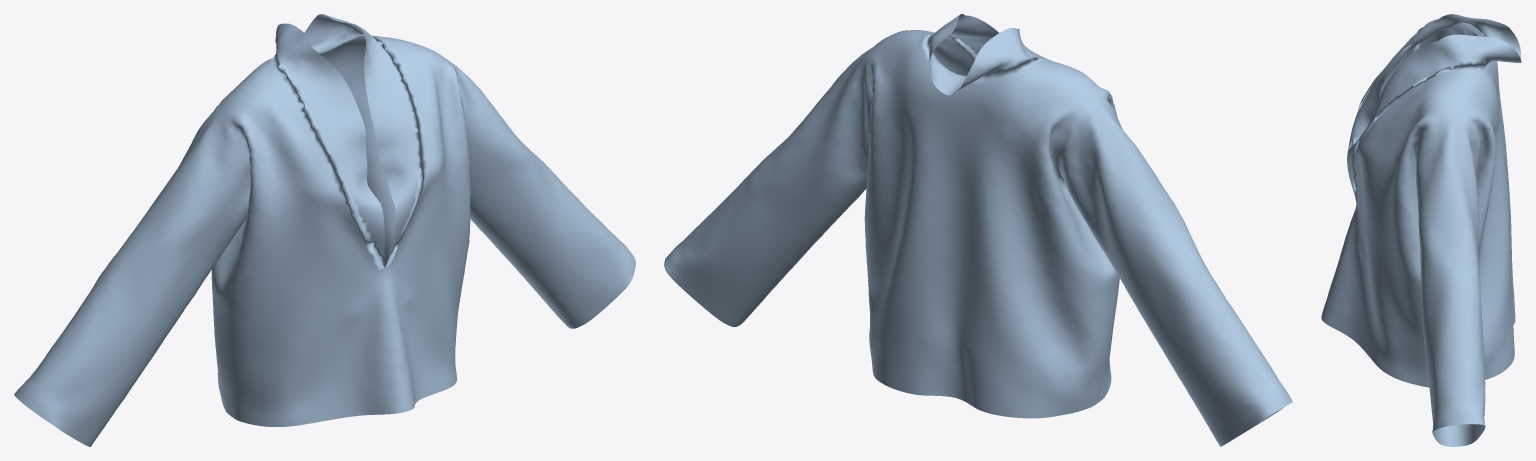
The model's file is jacket_XL.glb.
The picture shows the model from 3 angles, left to right: view 1: azimuth 30°, elevation 25°; view 2: azimuth 150°, elevation 25°; view 3: azimuth 270°, elevation 25°; orthographic projection. The views are drawn at different scales.
Parts seen in each view (by area): view 1: geometry_0; view 2: geometry_0; view 3: geometry_0.
Part boxes in pixels (x1,y1,x2,y2): geometry_0: (14,14,635,446); geometry_0: (664,14,1292,446); geometry_0: (1321,14,1521,446).
Size of the model in its own units: 1.23 by 0.6911 by 0.3926.
